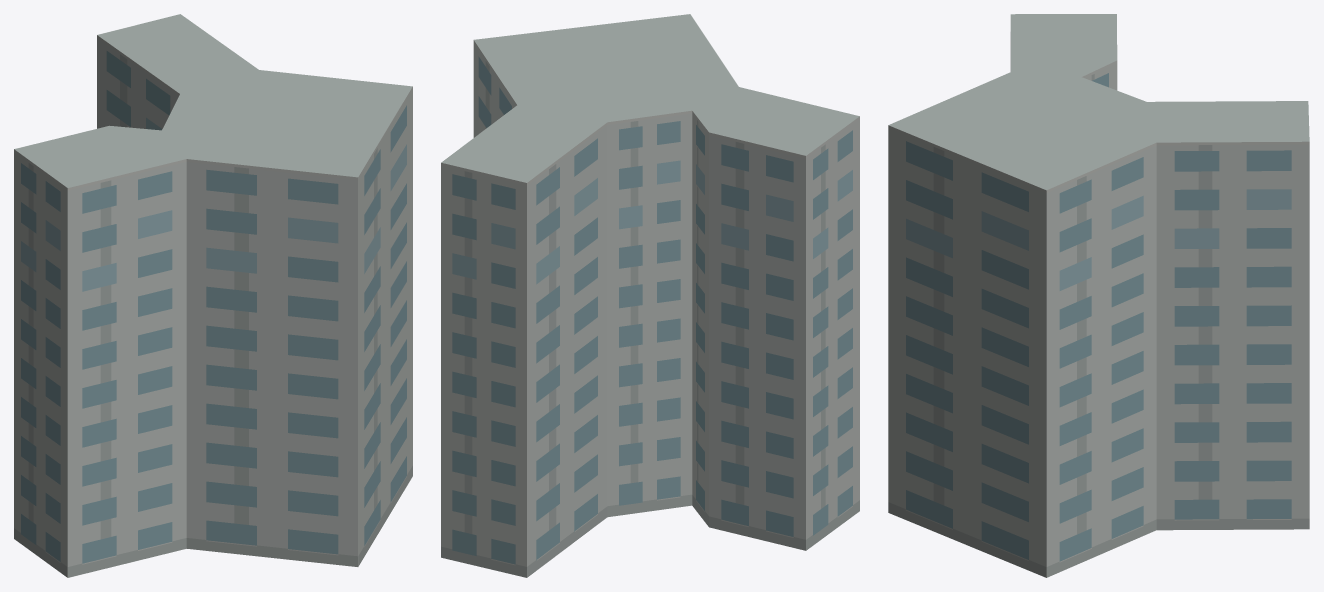
File: residential-9d8c5f1d-21e1-4b45-ab7a-359791fe5574.glb
3 renders of one model, left to right at view 1: azimuth 30°, elevation 25°; view 2: azimuth 150°, elevation 25°; view 3: azimuth 270°, elevation 25°, orthographic.
Parts seen in each view (by area): view 1: residential-9d8c5f1d-21e1-4b45-ab7a-359791fe5574.tmp; view 2: residential-9d8c5f1d-21e1-4b45-ab7a-359791fe5574.tmp; view 3: residential-9d8c5f1d-21e1-4b45-ab7a-359791fe5574.tmp.
Part boxes in pixels (left/top/right/bottom): residential-9d8c5f1d-21e1-4b45-ab7a-359791fe5574.tmp: left=14, top=14, right=412, bottom=577; residential-9d8c5f1d-21e1-4b45-ab7a-359791fe5574.tmp: left=441, top=14, right=859, bottom=577; residential-9d8c5f1d-21e1-4b45-ab7a-359791fe5574.tmp: left=888, top=14, right=1309, bottom=577.
Bounding box in the file's own units: 33.19 × 34 × 33.51.
